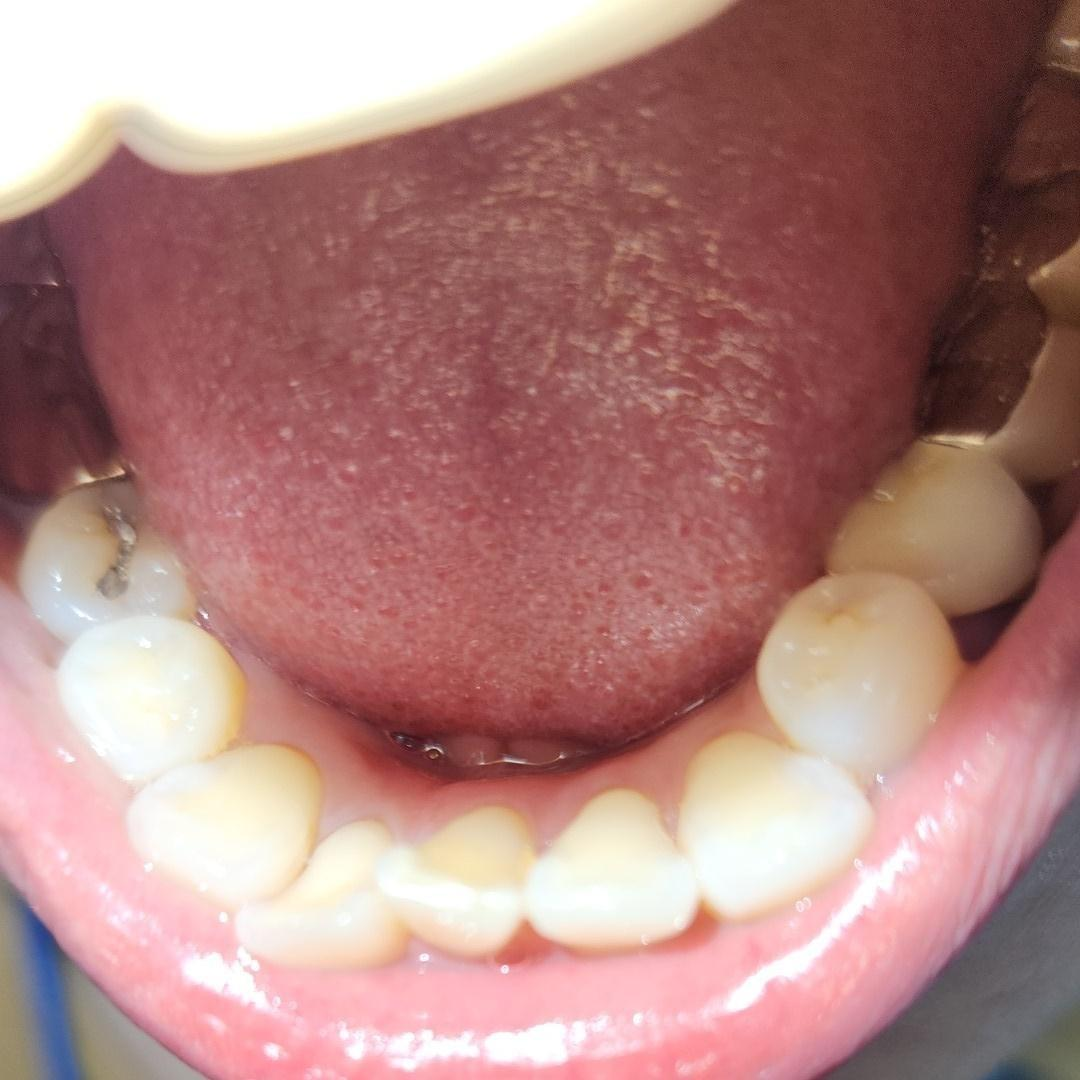Crowding: (240, 805, 559, 972)
